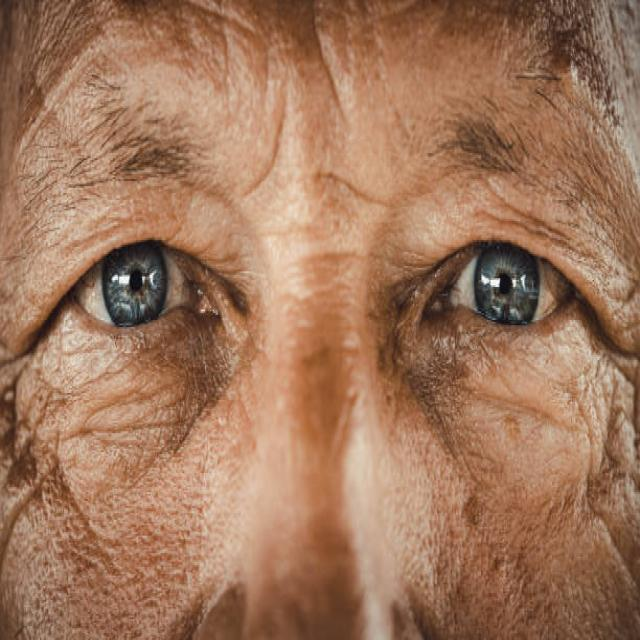Dry-Skin: (188, 0, 401, 313), (408, 358, 640, 640), (20, 397, 184, 626)
